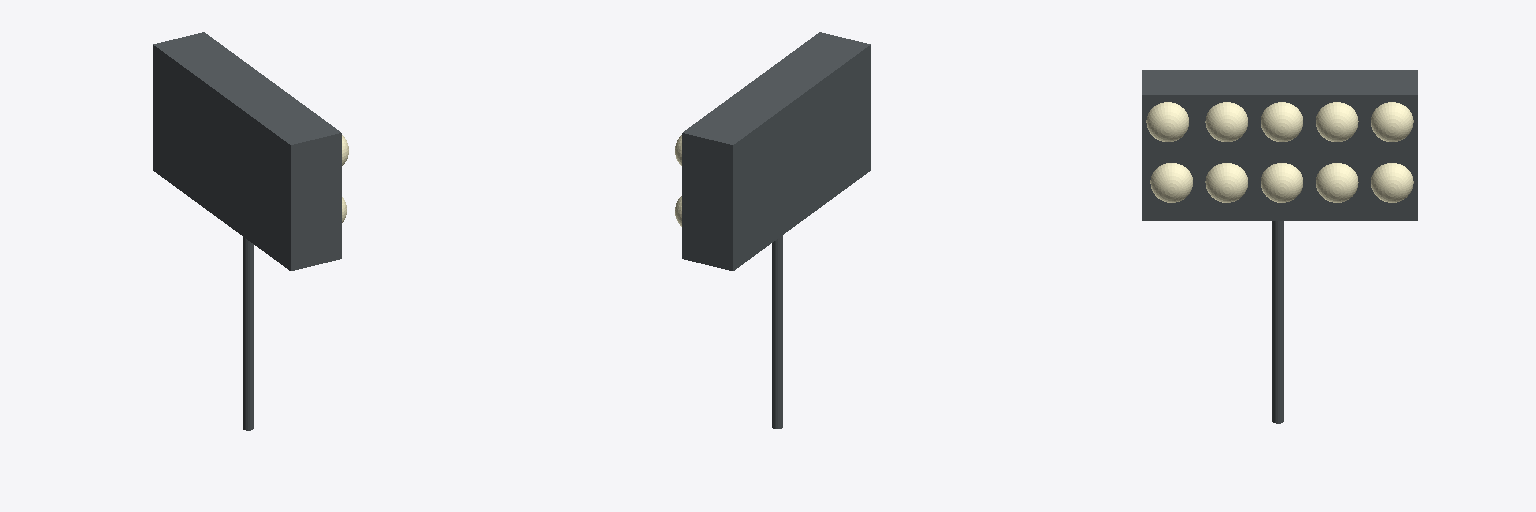
Rendered from tinker.obj.
The picture shows the model from 3 angles: view 1: azimuth 30°, elevation 25°; view 2: azimuth 150°, elevation 25°; view 3: azimuth 270°, elevation 25°; orthographic projection.
Visible parts, largest first — view 1: obj_0; view 2: obj_0; view 3: obj_0.
Boxes of the visible parts, box(x1,y1,x2,y2) form: obj_0: box(153, 32, 348, 430); obj_0: box(675, 32, 870, 428); obj_0: box(1142, 70, 1417, 423).
Size of the model in its own units: 20 by 95 by 70.